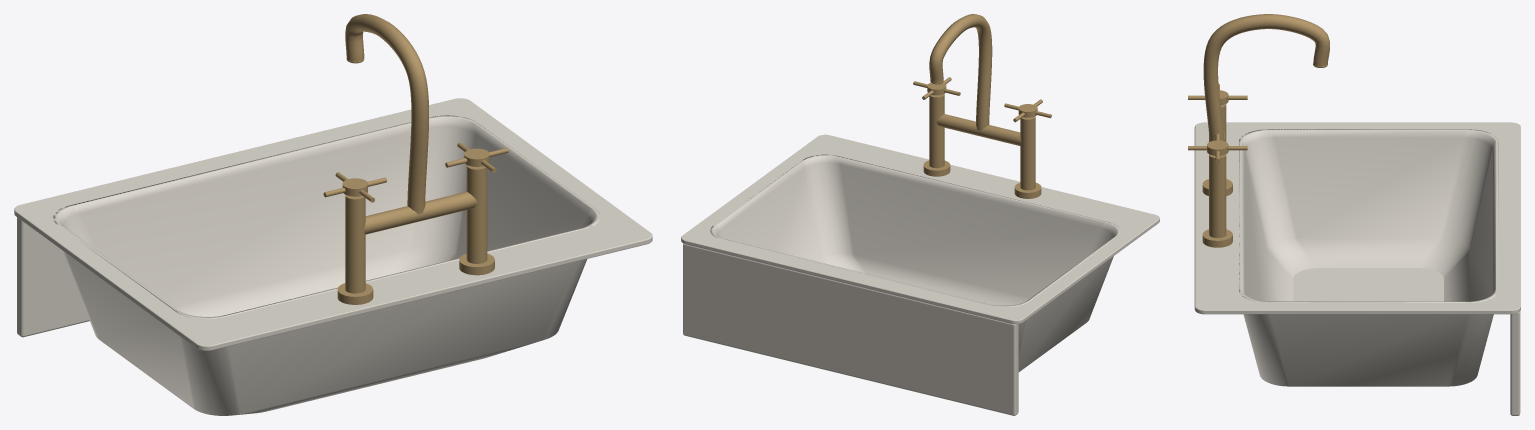
File: cabinet-farmhouse-sink.glb
The picture shows the model from 3 angles, left to right: view 1: azimuth 30°, elevation 25°; view 2: azimuth 150°, elevation 25°; view 3: azimuth 270°, elevation 25°; orthographic projection. The views are drawn at different scales.
Parts seen in each view (by area): view 1: ceramic_surfaces, bronze_surfaces; view 2: ceramic_surfaces, bronze_surfaces; view 3: ceramic_surfaces, bronze_surfaces.
Part boxes in pixels (x1,y1,x2,y2): ceramic_surfaces: (14,98,652,415); bronze_surfaces: (323,14,508,304); ceramic_surfaces: (681,134,1159,415); bronze_surfaces: (913,14,1051,198); ceramic_surfaces: (1194,122,1520,415); bronze_surfaces: (1188,14,1329,247).
Size of the model in its own units: 0.823 by 0.6404 by 0.6155.
